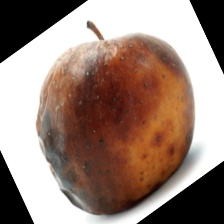apple: (36, 31, 211, 166)
